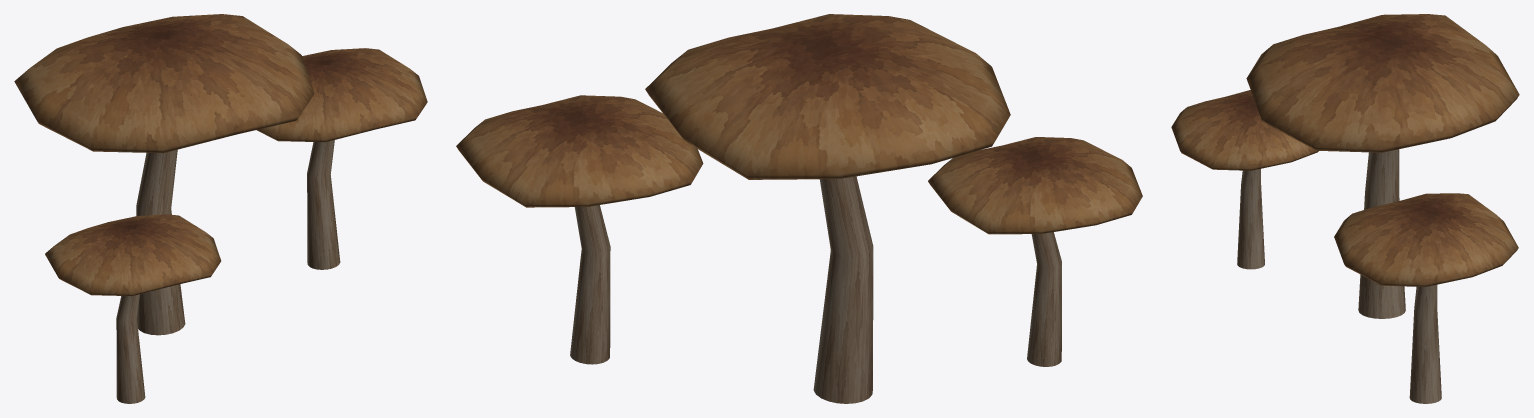
The picture shows the model from 3 angles, left to right: view 1: azimuth 30°, elevation 25°; view 2: azimuth 150°, elevation 25°; view 3: azimuth 270°, elevation 25°; orthographic projection. The views are drawn at different scales.
Visible parts, largest first — view 1: Broad umbrella cap, Broad umbrella cap.002, Broad umbrella cap.001, Curved supporting stem, Curved supporting stem.001, Curved supporting stem.002; view 2: Broad umbrella cap, Broad umbrella cap.001, Broad umbrella cap.002, Curved supporting stem, Curved supporting stem.001, Curved supporting stem.002; view 3: Broad umbrella cap, Broad umbrella cap.001, Broad umbrella cap.002, Curved supporting stem, Curved supporting stem.001, Curved supporting stem.002.
Part boxes in pixels (bbox=[...]): Broad umbrella cap: bbox=[14, 14, 314, 153]; Broad umbrella cap.002: bbox=[45, 214, 221, 296]; Broad umbrella cap.001: bbox=[256, 48, 427, 142]; Curved supporting stem: bbox=[136, 149, 185, 335]; Curved supporting stem.001: bbox=[307, 140, 340, 269]; Curved supporting stem.002: bbox=[116, 294, 145, 403]; Broad umbrella cap: bbox=[645, 14, 1010, 179]; Broad umbrella cap.001: bbox=[456, 95, 703, 207]; Broad umbrella cap.002: bbox=[928, 137, 1142, 234]; Curved supporting stem: bbox=[813, 176, 873, 403]; Curved supporting stem.001: bbox=[570, 205, 610, 364]; Curved supporting stem.002: bbox=[1027, 232, 1061, 366]; Broad umbrella cap: bbox=[1246, 14, 1519, 152]; Broad umbrella cap.001: bbox=[1334, 193, 1518, 286]; Broad umbrella cap.002: bbox=[1171, 90, 1318, 170]; Curved supporting stem: bbox=[1358, 149, 1405, 318]; Curved supporting stem.001: bbox=[1409, 284, 1441, 403]; Curved supporting stem.002: bbox=[1237, 169, 1264, 269].
Bounding box in the file's own units: 2.31 × 1.4 × 1.6.
1 material, 1 textured.
